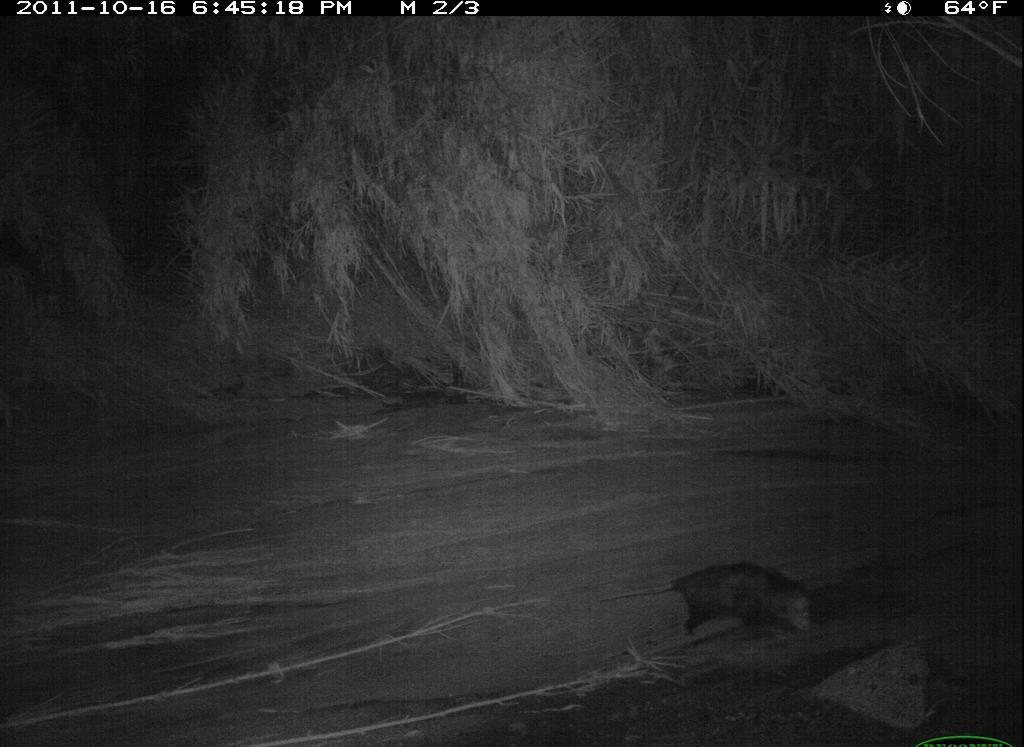opossum: (594, 556, 821, 649)
